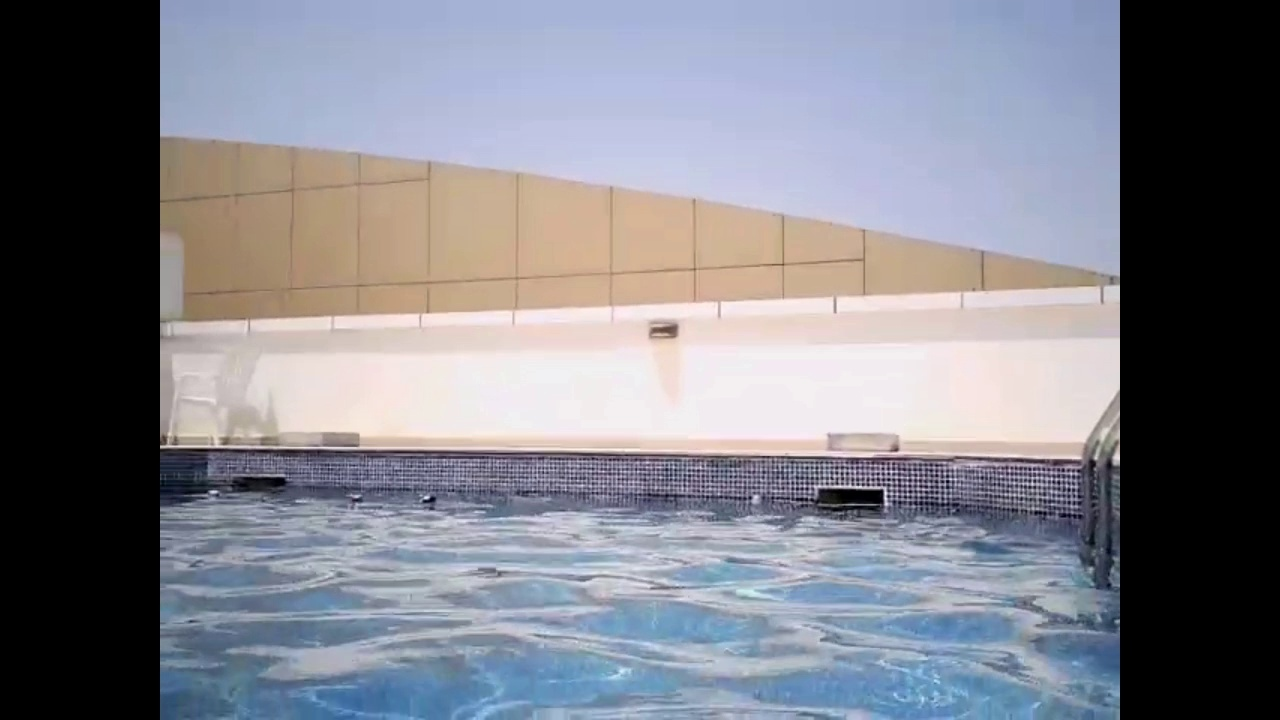debris: (418, 494, 438, 507), (749, 491, 764, 507), (347, 491, 364, 505), (206, 488, 222, 499)
